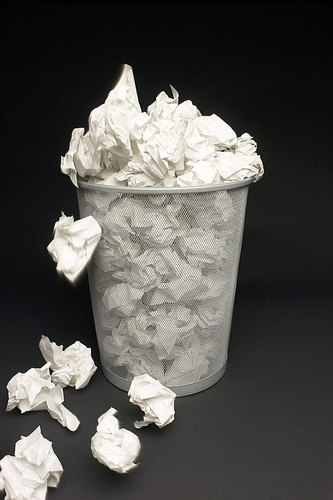paper: (79, 59, 154, 152), (30, 209, 114, 291), (2, 363, 84, 436), (45, 121, 128, 192), (1, 423, 67, 500), (29, 331, 110, 391), (83, 405, 145, 478), (177, 102, 249, 161), (129, 111, 188, 180), (122, 370, 181, 434), (144, 303, 204, 364), (125, 245, 186, 293), (123, 203, 184, 248), (178, 223, 241, 262), (95, 276, 143, 322)
